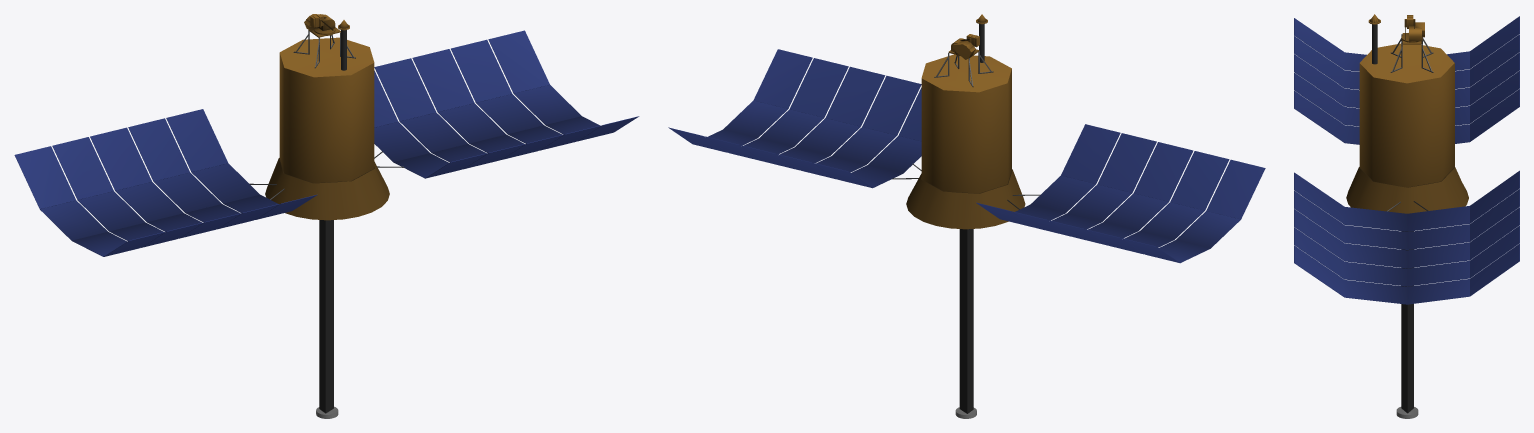
File: space-spacecraft-space-probe_v1.glb
The picture shows the model from 3 angles, left to right: view 1: azimuth 30°, elevation 25°; view 2: azimuth 150°, elevation 25°; view 3: azimuth 270°, elevation 25°; orthographic projection. The views are drawn at different scales.
Parts seen in each view (by area): view 1: Space Probe_v1; view 2: Space Probe_v1; view 3: Space Probe_v1.
Part boxes in pixels (left/top/right/bottom): Space Probe_v1: left=14, top=14, right=639, bottom=418; Space Probe_v1: left=668, top=14, right=1265, bottom=418; Space Probe_v1: left=1294, top=14, right=1519, bottom=418.
Size of the model in its own units: 6 by 4.57 by 2.34.
